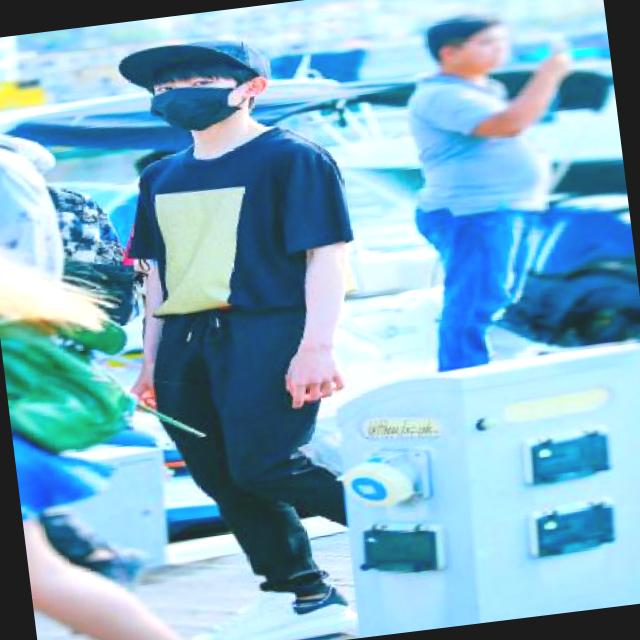Person: (68, 6, 419, 640)
